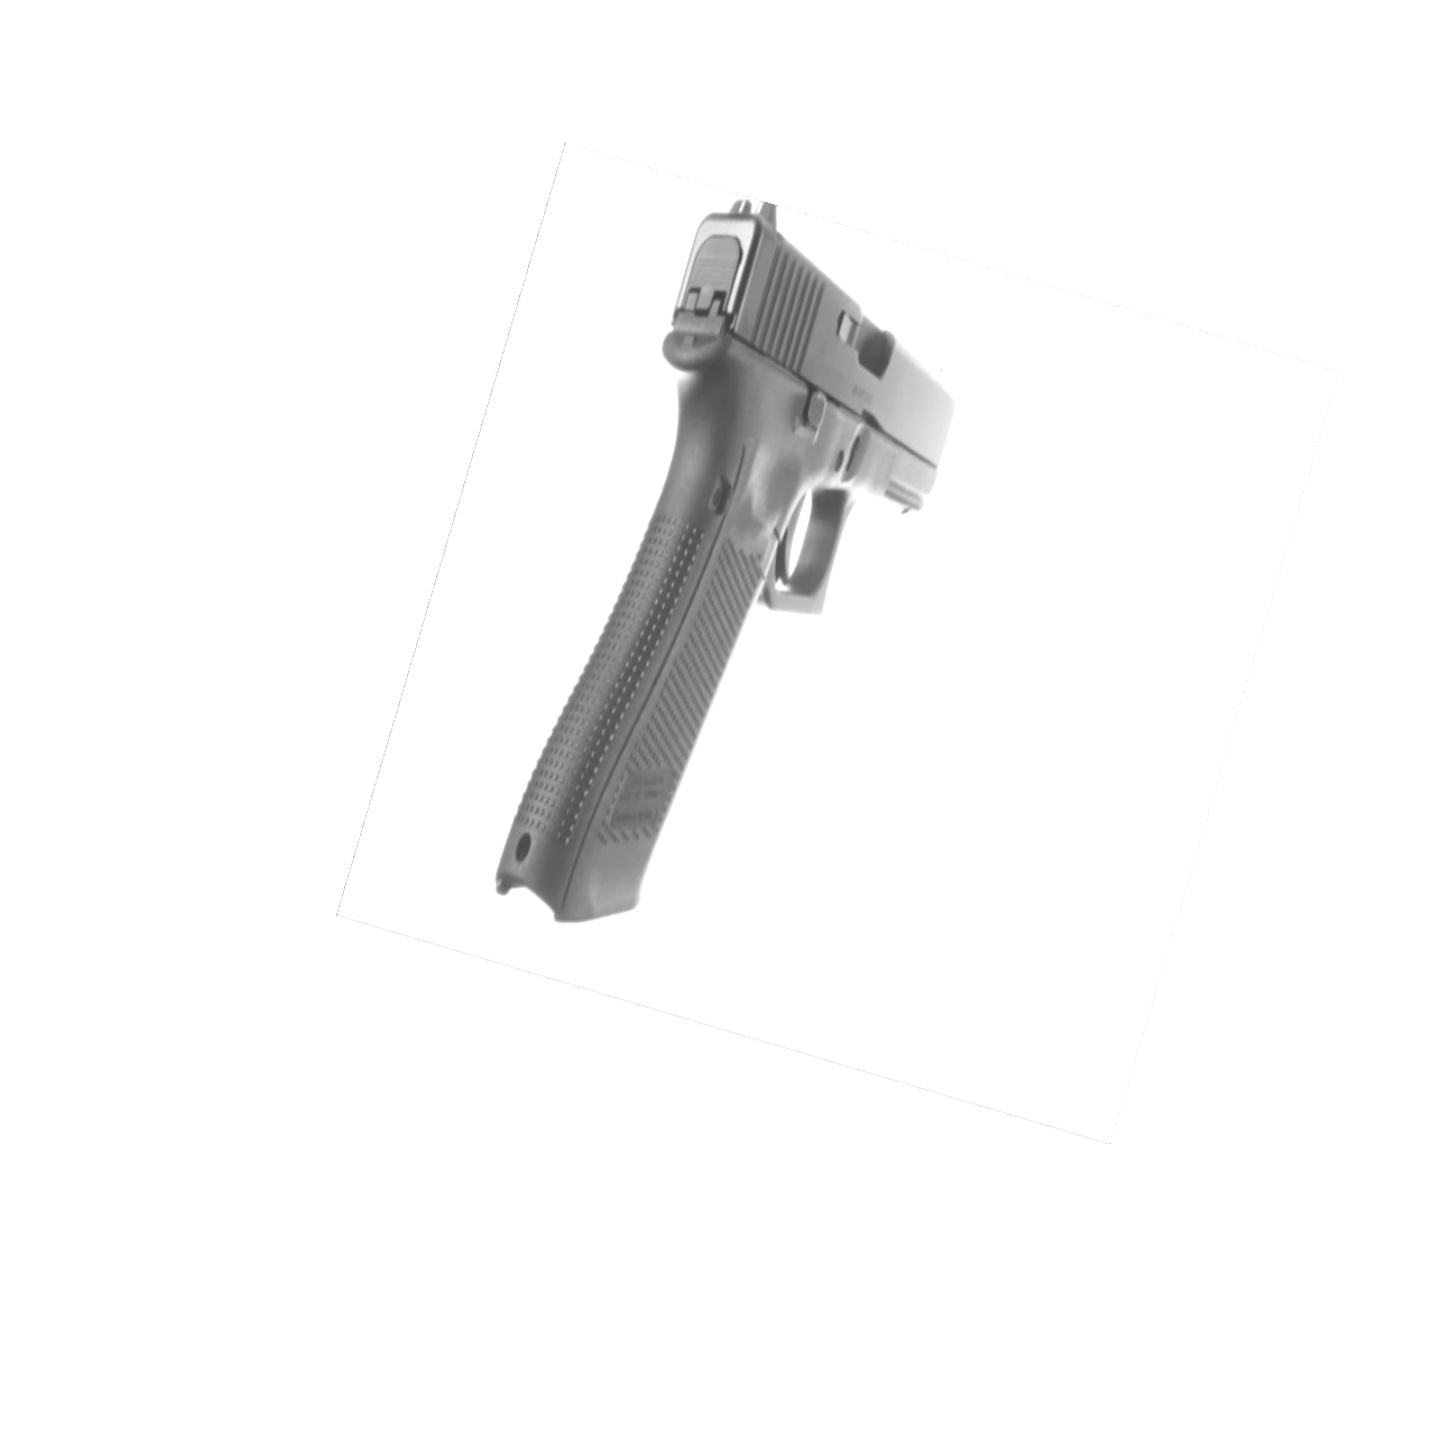gun: (498, 198, 955, 922)
